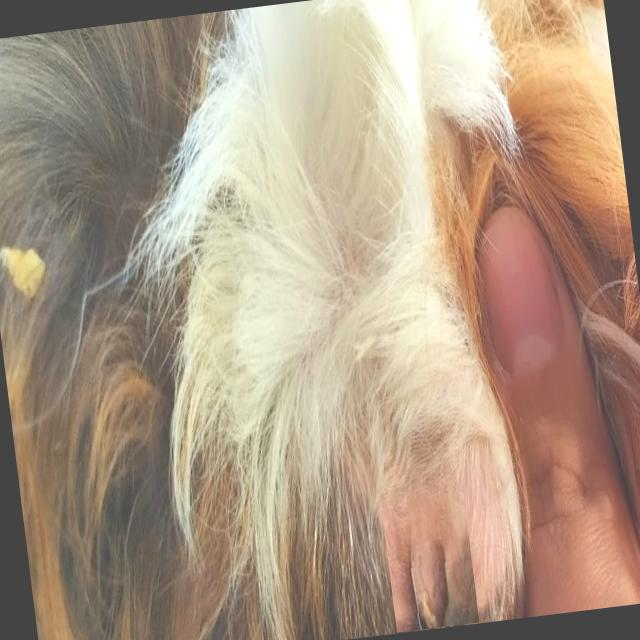mae: (381, 494, 476, 631)
mal: (412, 537, 457, 630)
